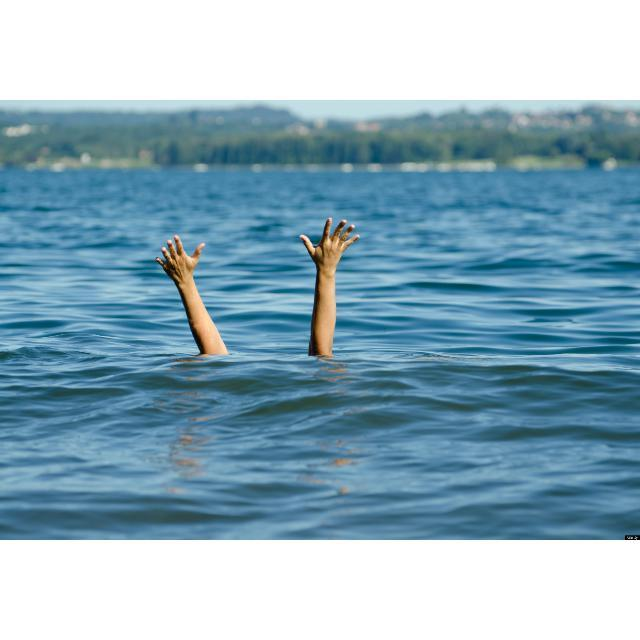human: (157, 215, 359, 362)
